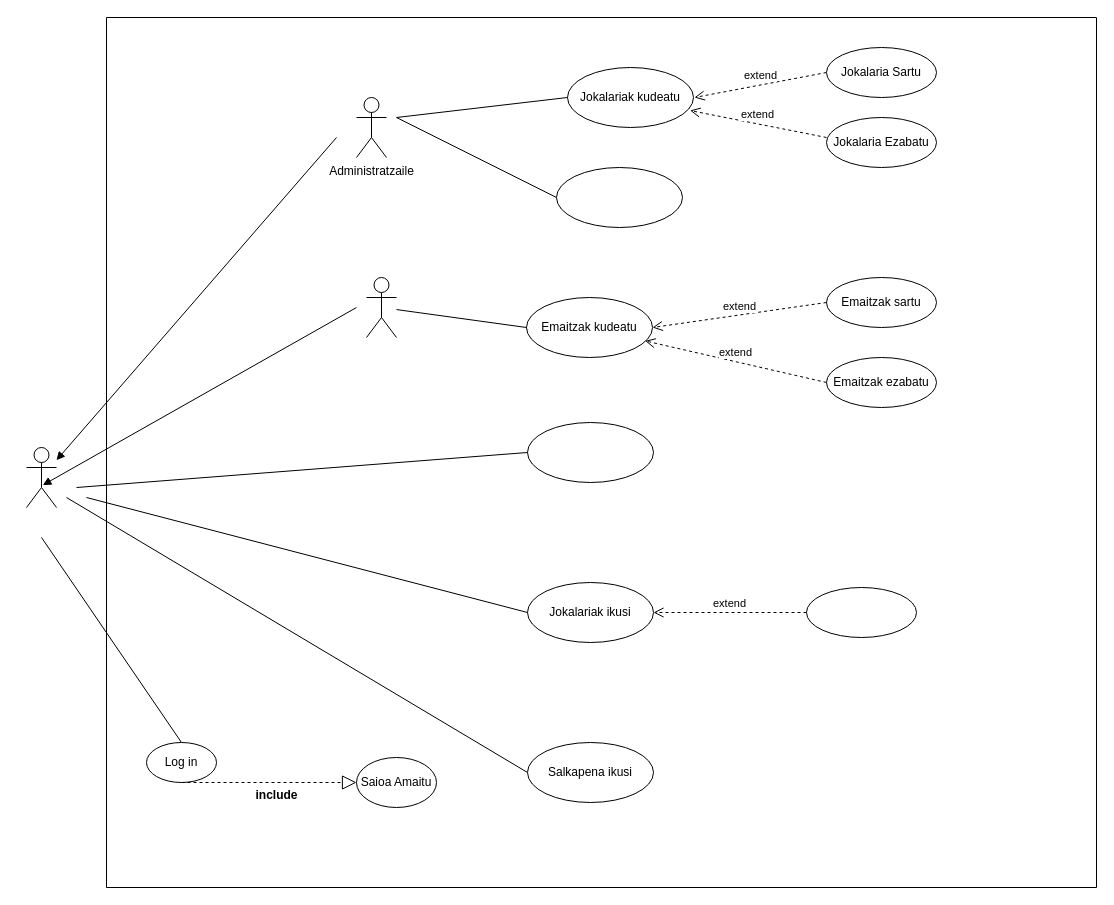
Some shapes in this 1114 by 905 pixel diagram are drawn without their labels. Each missing label, with the centre of its shape:
"Arbitroa" goes at point 381,307.
"Jokalariak aldatu" goes at point 619,197.
"Pertsona" goes at point 41,477.
"Taldeak ikusi" goes at point 590,452.
"Xml sortu" goes at point 861,612.
